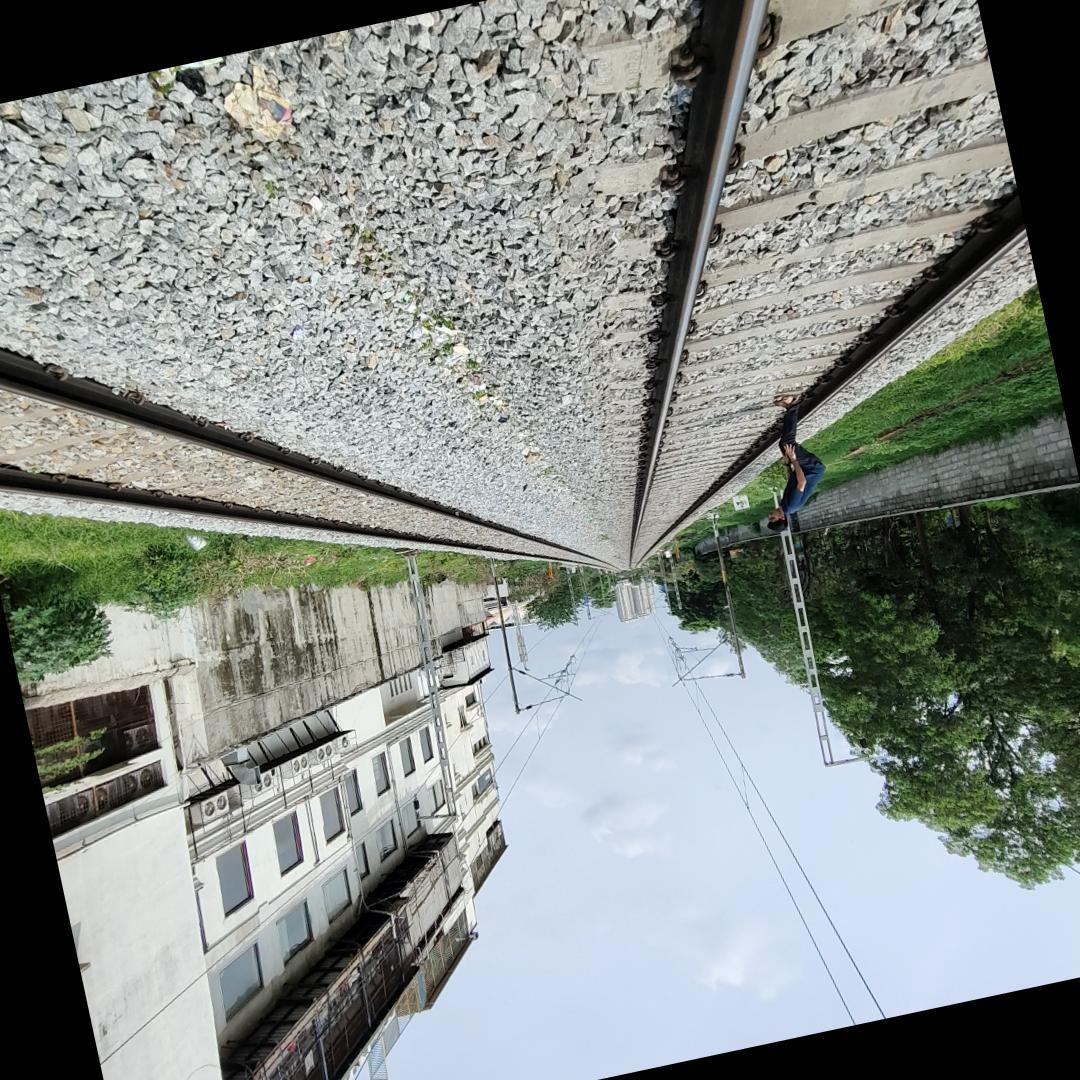standing: (748, 375, 837, 534)
track: (634, 0, 1026, 575)
